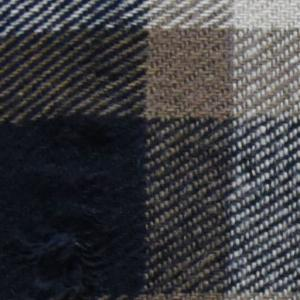Damage: (6, 149, 126, 300)
